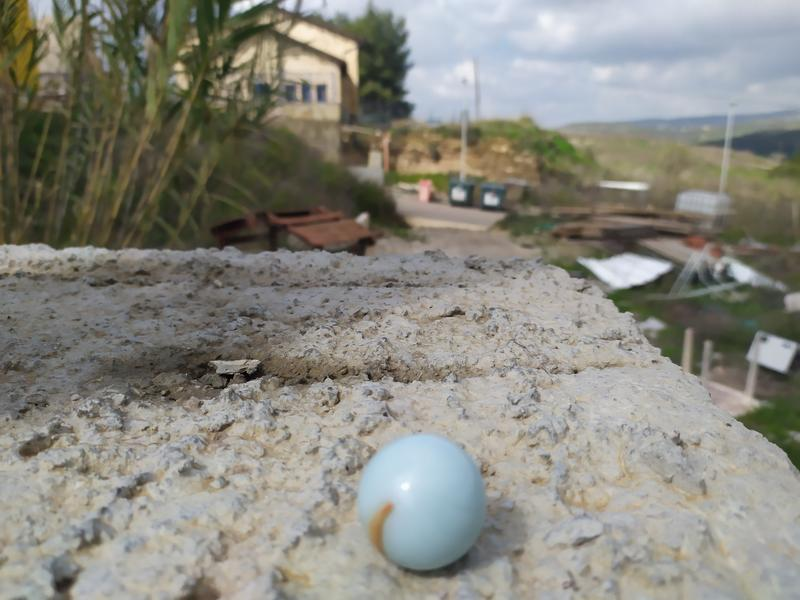Warning: (352, 428, 492, 575)
